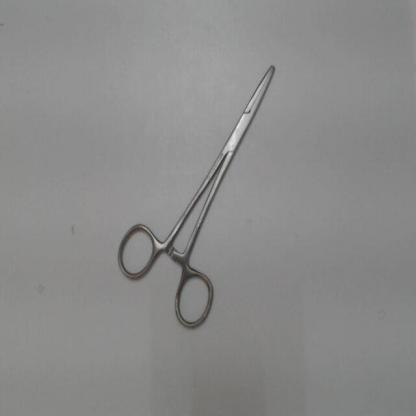Mayo Needle Holder: (109, 53, 287, 338)
